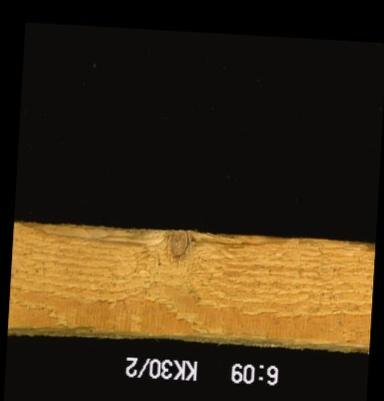sound_knot: (164, 228, 189, 259)
wave: (12, 223, 374, 244)
